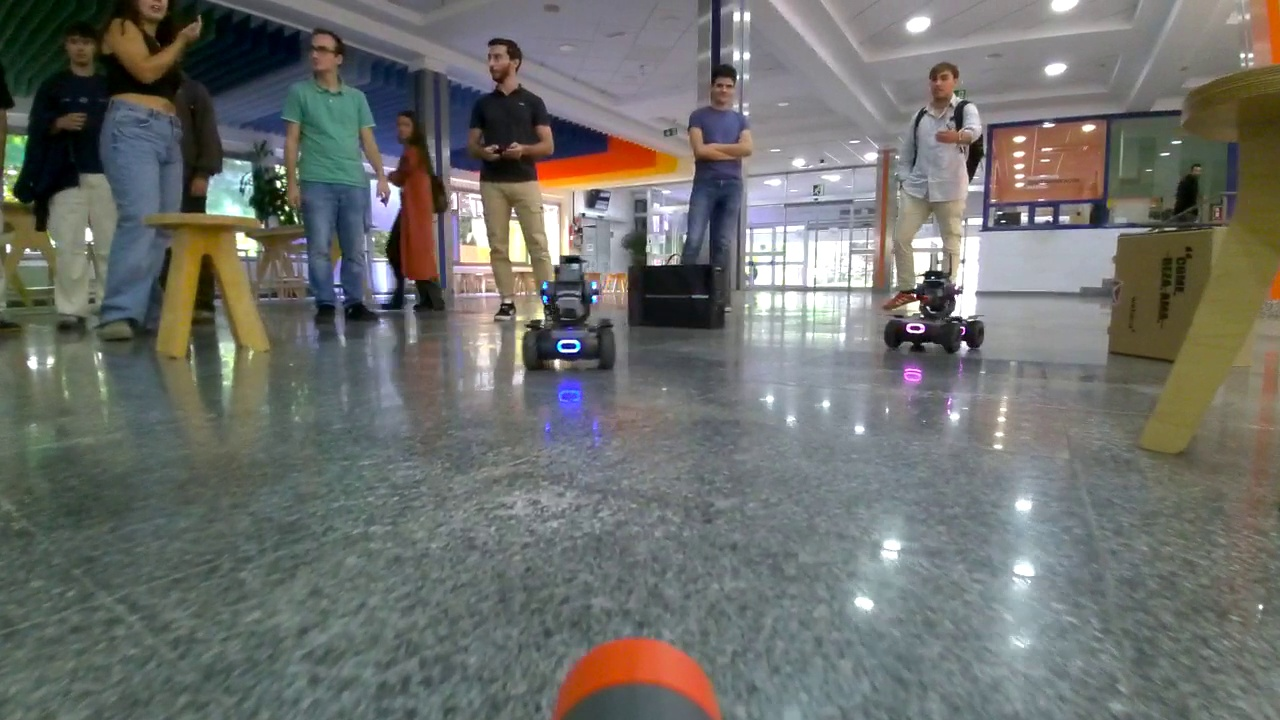robot: (512, 262, 621, 374), (887, 275, 987, 355)
